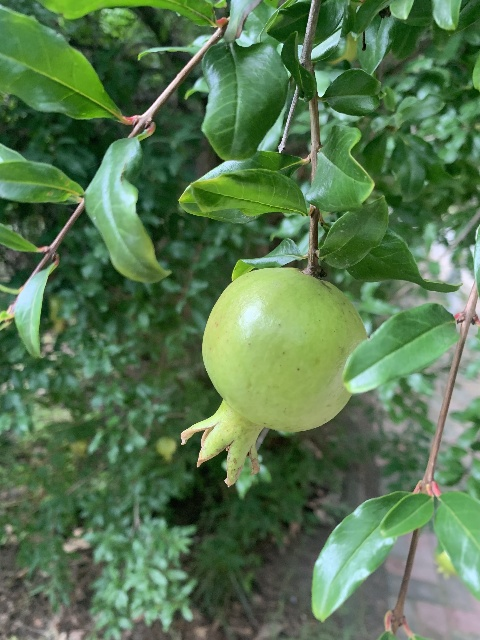mid-growth: (180, 266, 366, 487)
